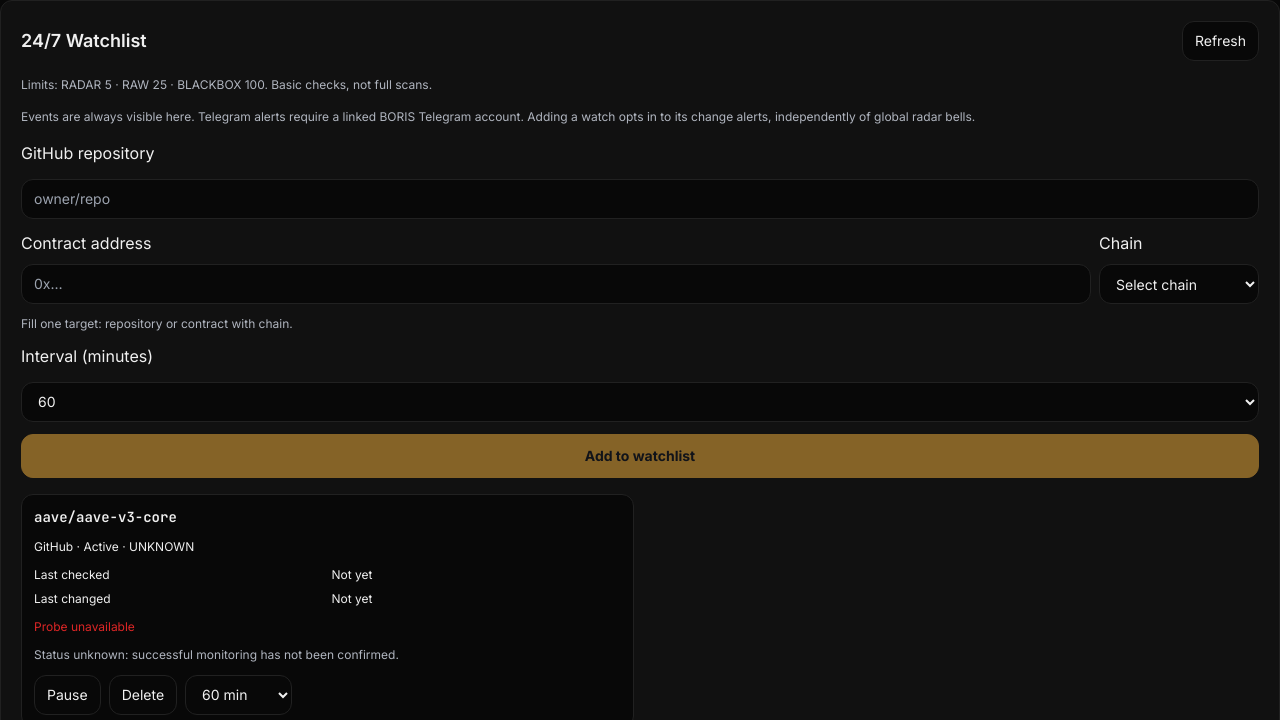
Test: renders monitoring state and confirms pause by readback, retaining failed deletes
expect the heading "aave/aave-v3-core" is shown: met, box x1=34 y1=508 x2=177 y2=526
expect the text "Probe unavailable" is shown: met, box x1=34 y1=619 x2=135 y2=634
Click the button "Pause": click(67, 695) x1=34 y1=675 x2=101 y2=715
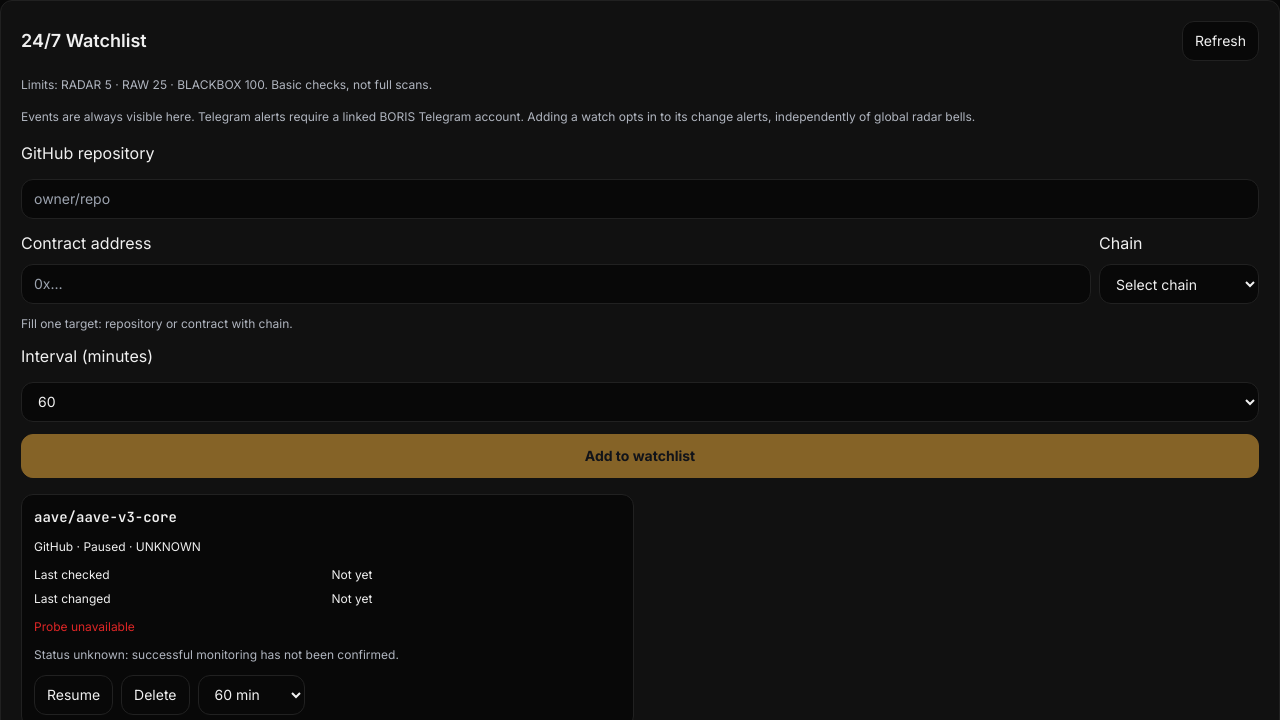
expect the button "Resume" is shown: met, box x1=34 y1=675 x2=113 y2=715
Click the button "Delete": click(155, 695) x1=121 y1=675 x2=190 y2=715
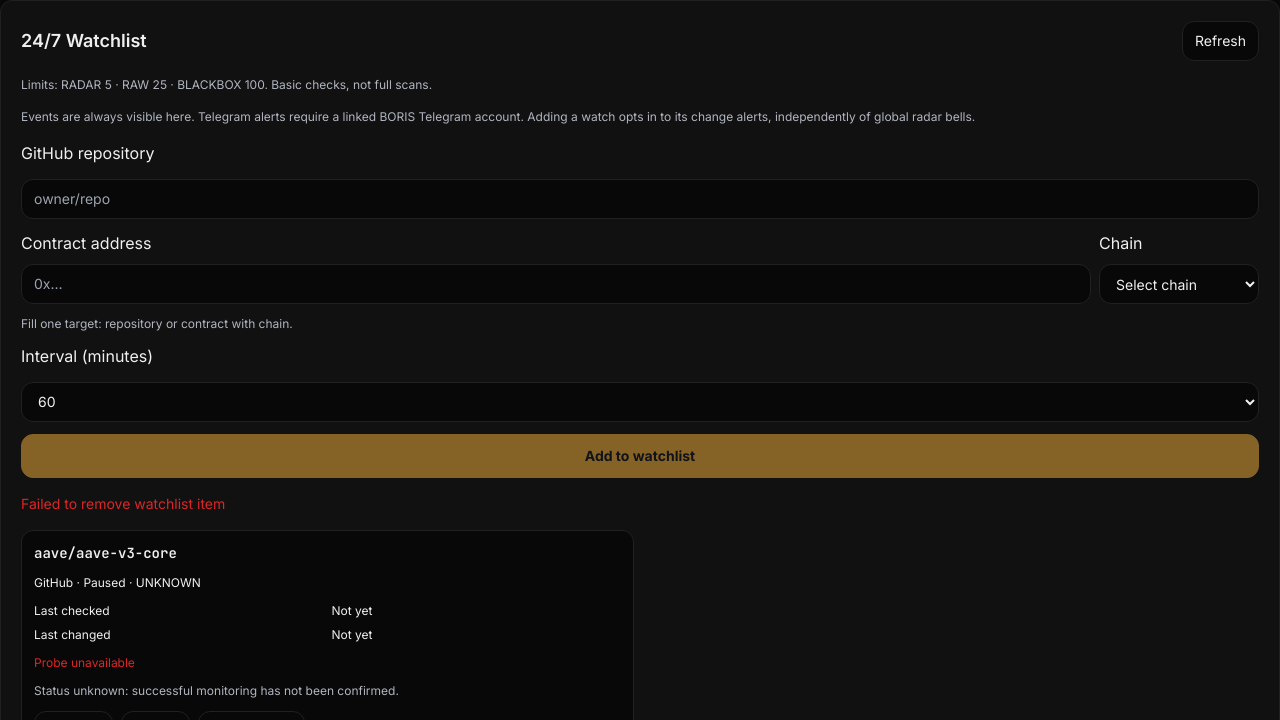
expect the heading "aave/aave-v3-core" is shown: met, box x1=34 y1=544 x2=177 y2=562
expect the message "Failed to remove watchlist item" is shown: met, box x1=21 y1=495 x2=225 y2=512
